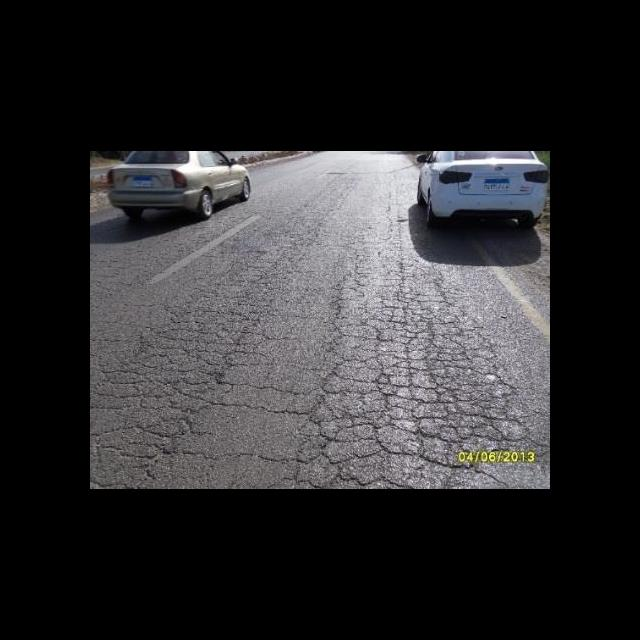retak_kulit_buaya: (320, 253, 489, 484), (90, 270, 271, 484), (179, 338, 348, 467)
